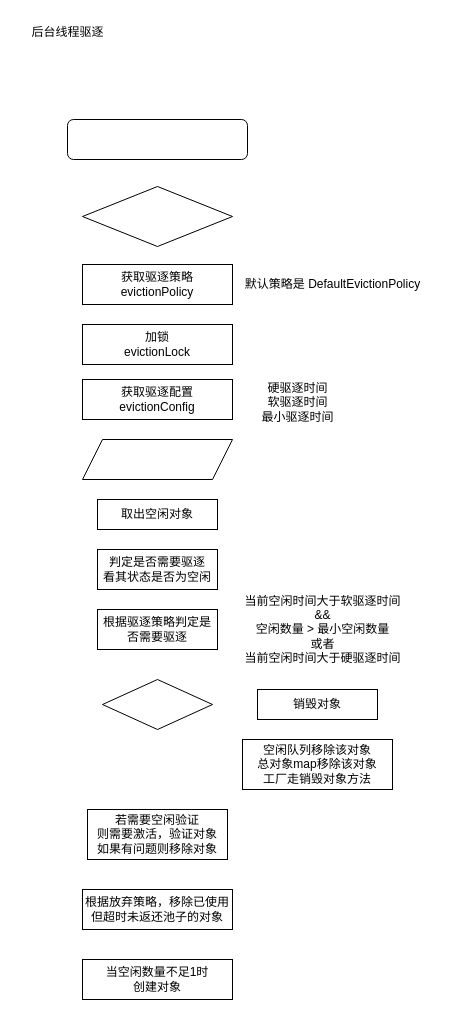
Some shapes in this 449 by 1017 pixel diagram are drawn without their labels. Here are the shapes that lost their labels. From the top down, the centre of each, then its label:
point (157, 139): Evictor
point (157, 216): idleObjects 不为空
point (157, 459): 循环驱逐数量
point (157, 704): 需要驱逐
